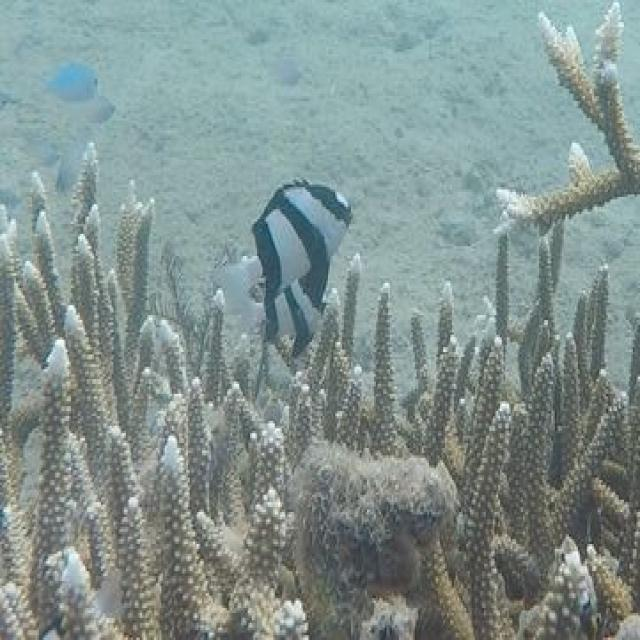ThreeStripedDamselfish: (218, 170, 356, 311)
